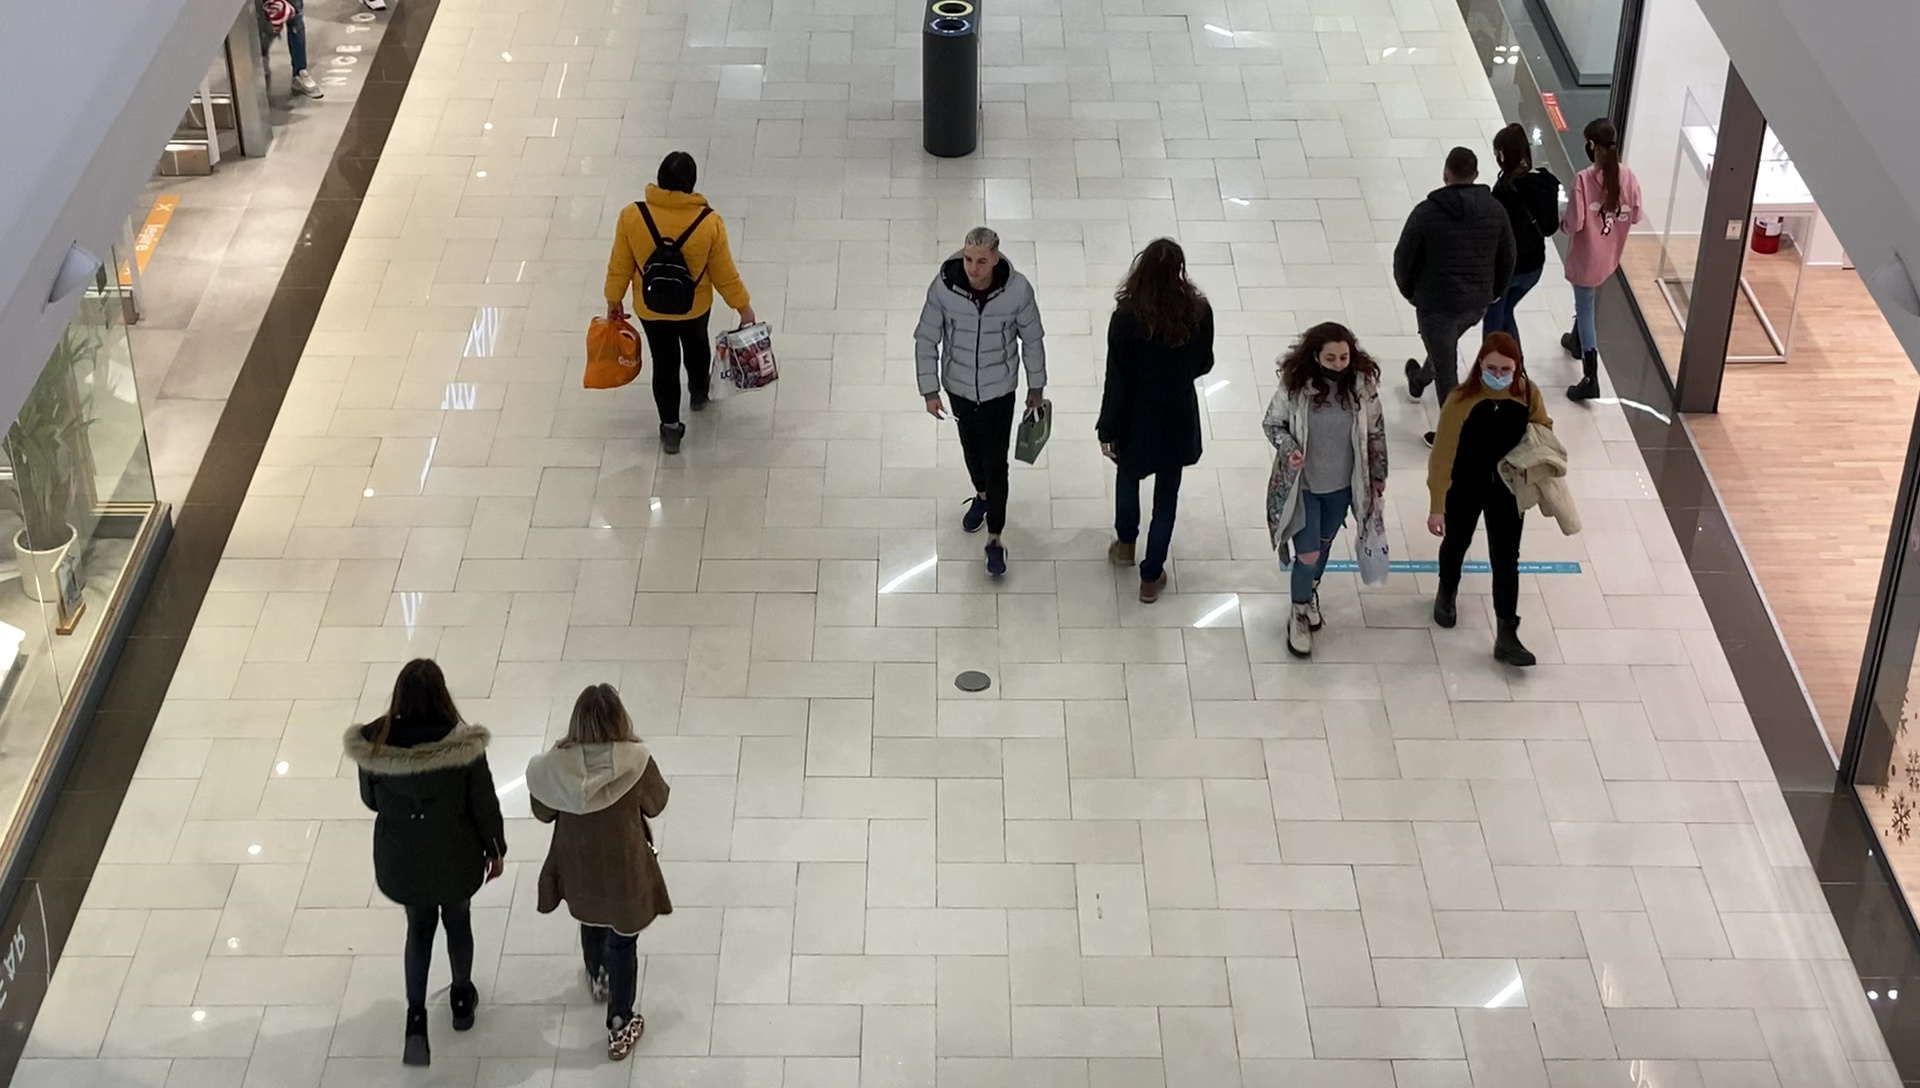person: (347, 659, 507, 1068), (526, 685, 671, 1062), (913, 227, 1049, 579), (603, 151, 754, 452), (1260, 321, 1389, 662), (1096, 238, 1215, 605), (1426, 331, 1553, 667), (1392, 147, 1505, 455), (1480, 122, 1558, 414), (1566, 119, 1643, 403)
